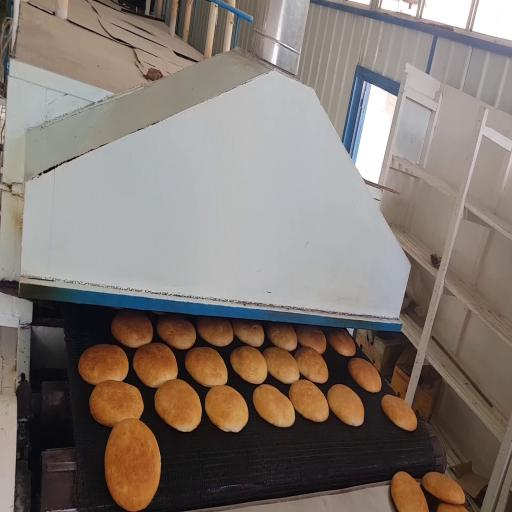bread: (105, 419, 160, 511), (155, 379, 201, 431), (90, 381, 143, 426), (79, 344, 128, 385), (133, 343, 177, 388), (205, 386, 248, 432), (253, 384, 295, 427), (185, 347, 227, 387), (289, 380, 328, 422), (111, 310, 153, 348), (327, 384, 364, 426), (391, 472, 428, 511), (422, 472, 465, 504), (230, 347, 267, 384), (157, 314, 195, 349), (263, 348, 299, 384), (382, 395, 417, 431), (295, 347, 328, 383), (348, 358, 381, 393), (197, 317, 233, 347), (231, 320, 264, 347), (296, 325, 326, 354), (267, 323, 297, 351), (327, 329, 355, 356), (437, 503, 467, 511)
